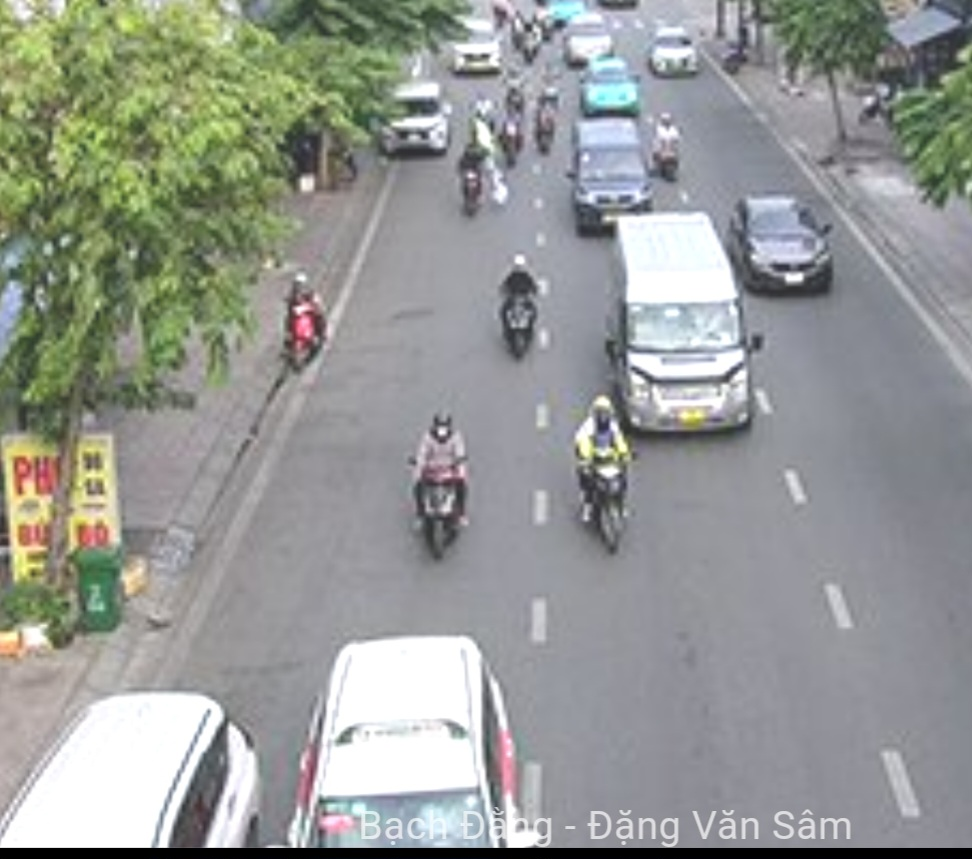car: (609, 217, 755, 438), (732, 193, 843, 298), (567, 120, 656, 231), (379, 84, 451, 158), (579, 60, 640, 116), (449, 21, 504, 74), (650, 23, 699, 81), (563, 17, 613, 62)
